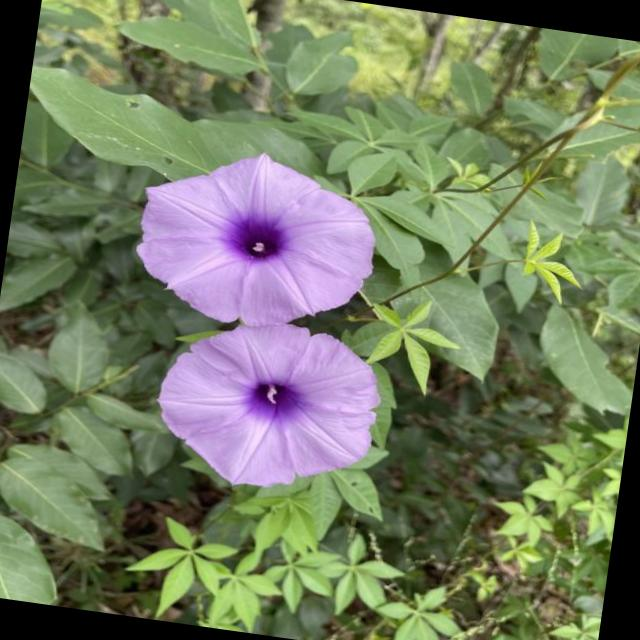ipomoea: (96, 132, 422, 507), (122, 134, 390, 344), (144, 306, 392, 506)
